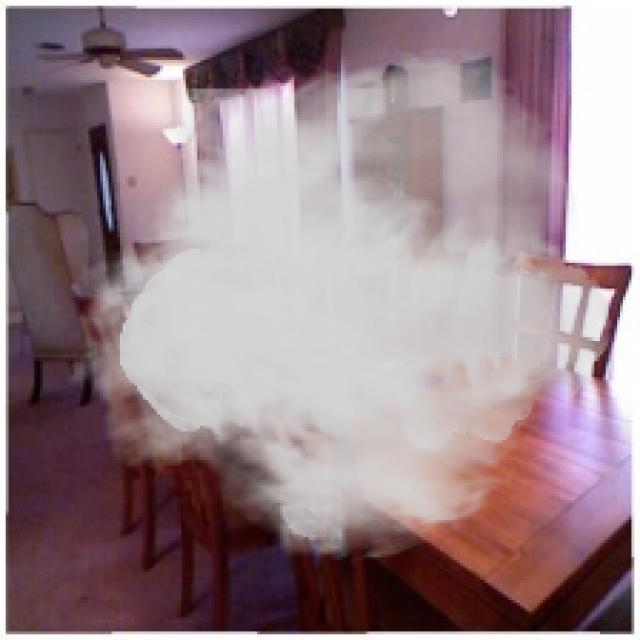Smoke: (63, 43, 612, 566)
